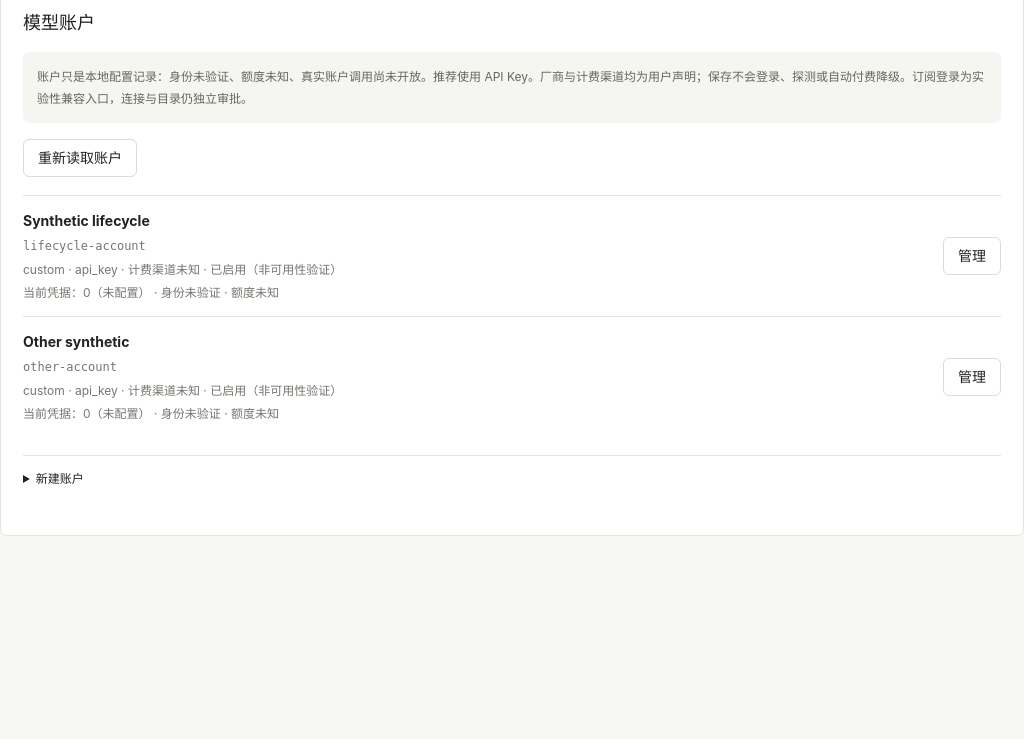
Test: does not let a late credential refresh switch the currently selected account or resurrect its editor
This screenshot has width=1024, height=739.
Click the button with aria-label "管理账户 Synthetic lifecycle" at [972, 256], box top-left (943, 237), bottom-right (1001, 275)
(page scrolled)
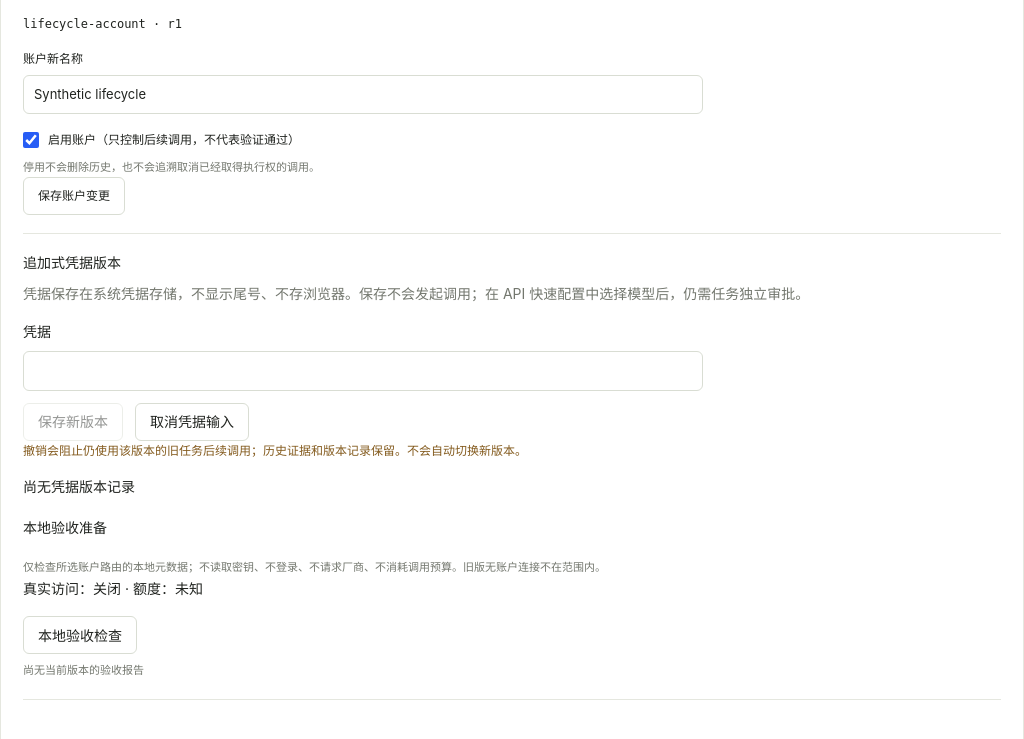
Type "synthetic-late" into the password field labelled "凭据" at [363, 371], box top-left (23, 351), bottom-right (703, 391)
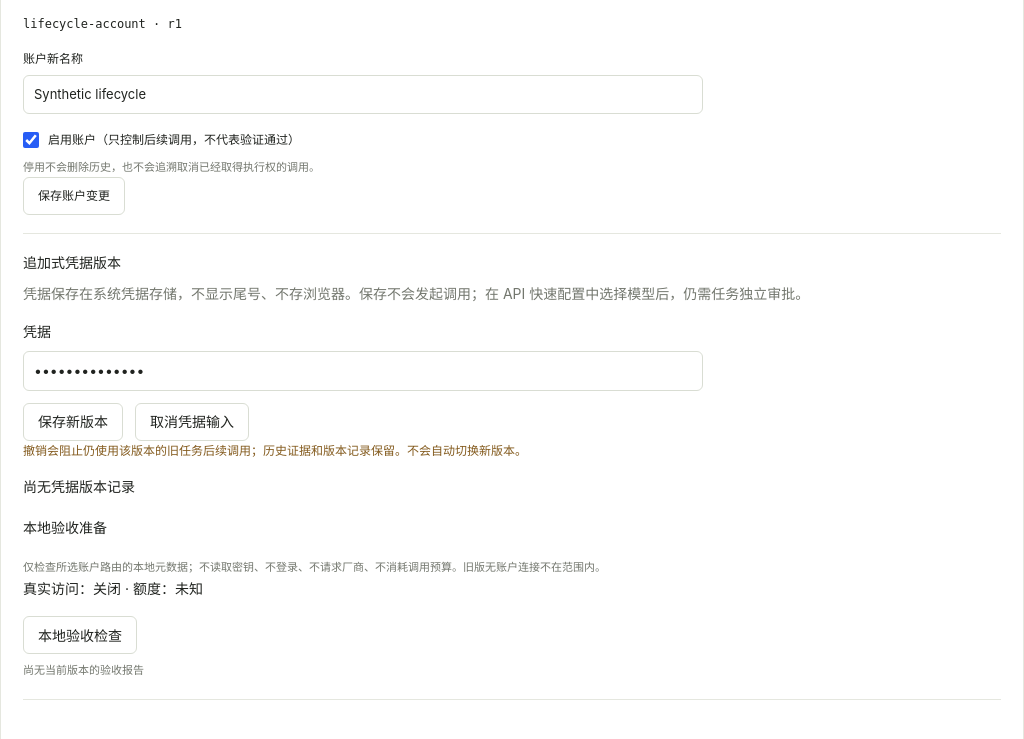
Click the button "保存新版本" at [73, 422], box top-left (23, 403), bottom-right (123, 441)
(page scrolled)
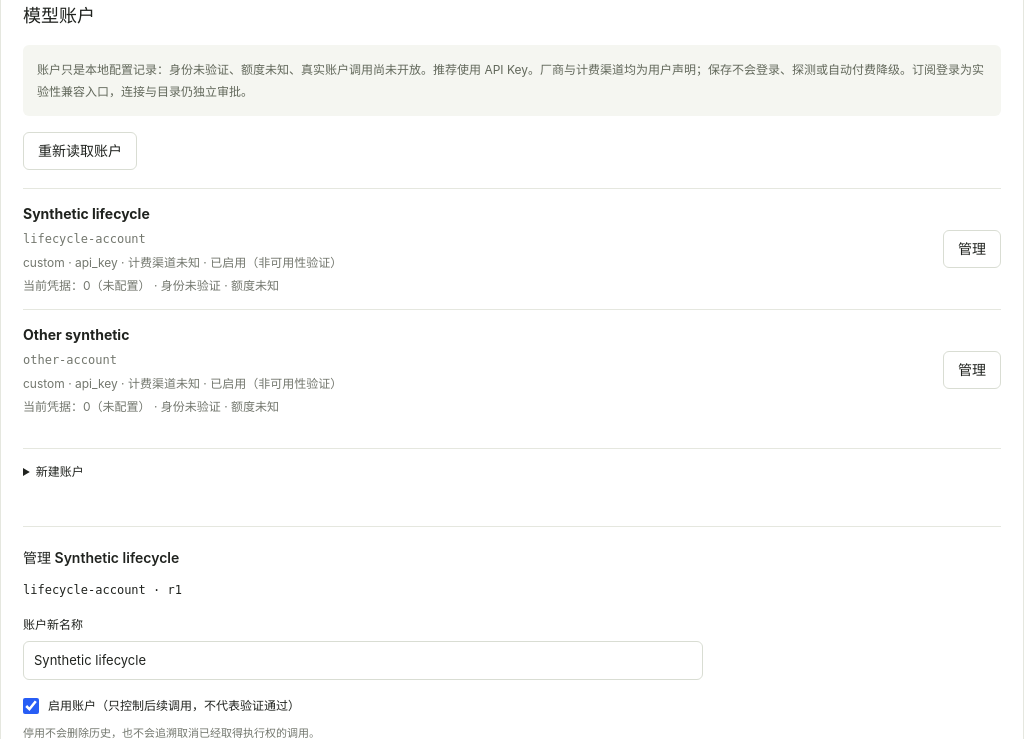
Click the button with aria-label "管理账户 Other synthetic" at [972, 370], box top-left (943, 351), bottom-right (1001, 389)
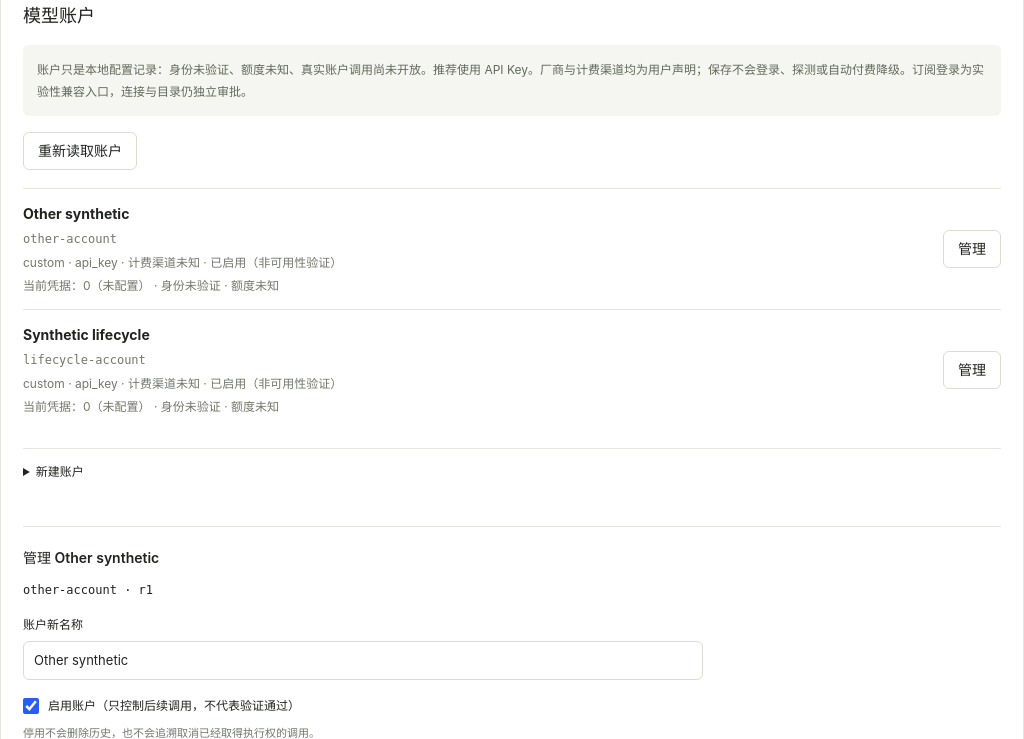
Now the heading "管理 Other synthetic" is shown, box top-left (23, 549), bottom-right (159, 566)
